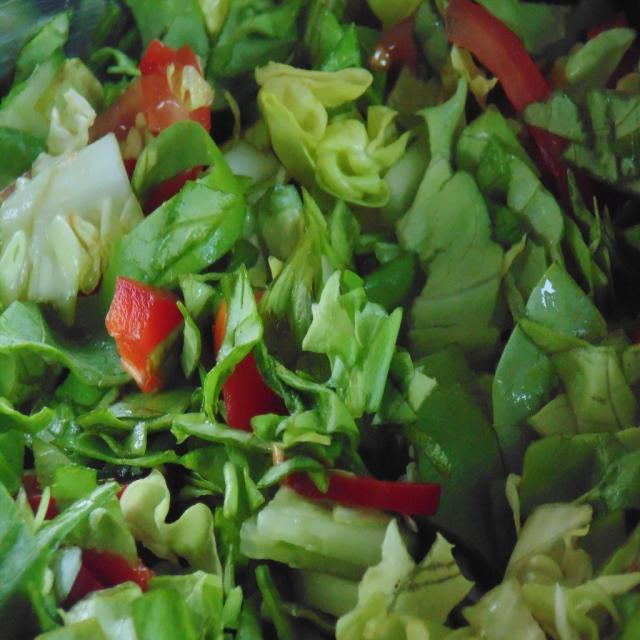Salad: (1, 0, 639, 638)
